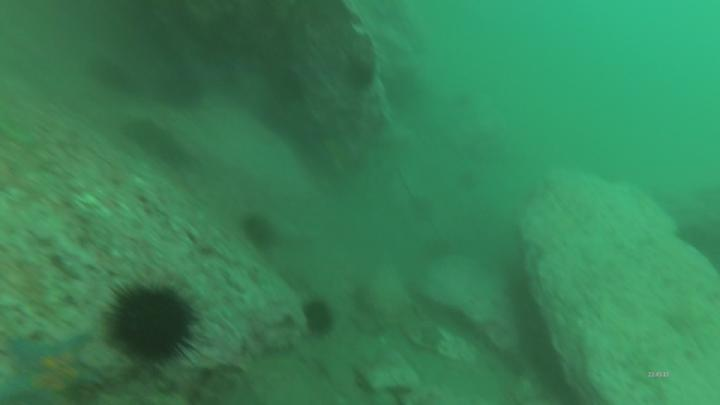echinus: (101, 280, 201, 374), (156, 69, 204, 112), (300, 298, 338, 339), (241, 215, 276, 252), (344, 58, 378, 93), (96, 63, 135, 92)
starfish: (3, 333, 104, 405)
